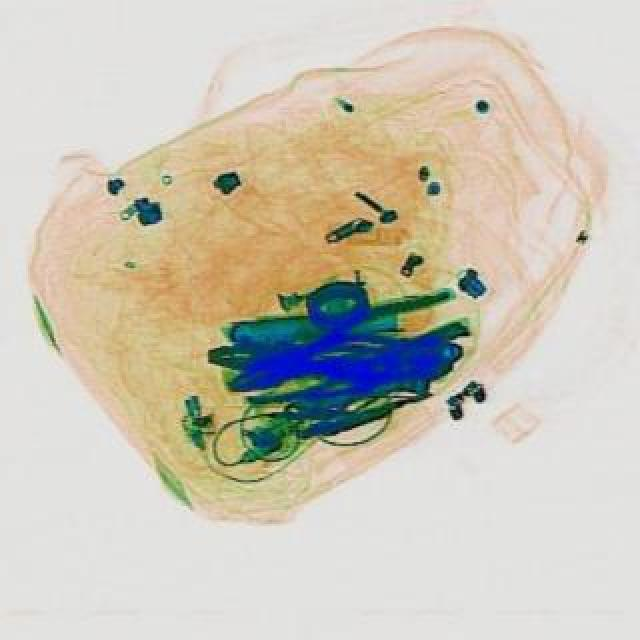wrench: (214, 278, 470, 414)
